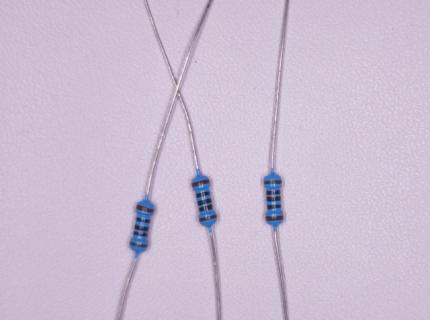Black band: (197, 198, 212, 206), (199, 204, 213, 212), (196, 191, 210, 198), (136, 217, 151, 223), (134, 225, 149, 231), (133, 231, 148, 237), (266, 196, 281, 201), (266, 190, 280, 195), (267, 204, 281, 209)
Brown band: (191, 179, 210, 187), (136, 204, 155, 212), (129, 240, 148, 248), (199, 214, 217, 222), (265, 216, 283, 221), (264, 180, 282, 184)
